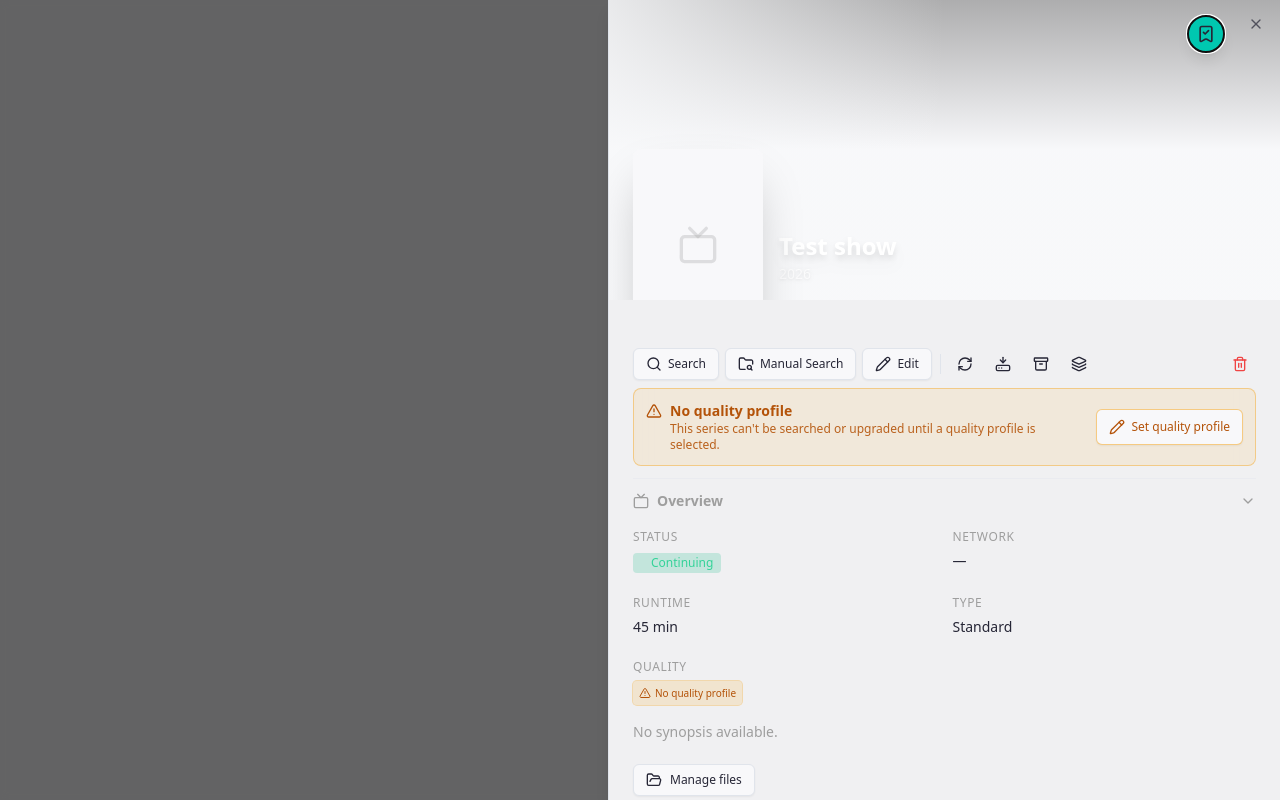
Test: Media file manager detail entry points › opens whole-series inventory without a season filter
The width and height of the screenshot is (1280, 800).
Click the button "Manage files" at (694, 780), box [633, 764, 755, 796]
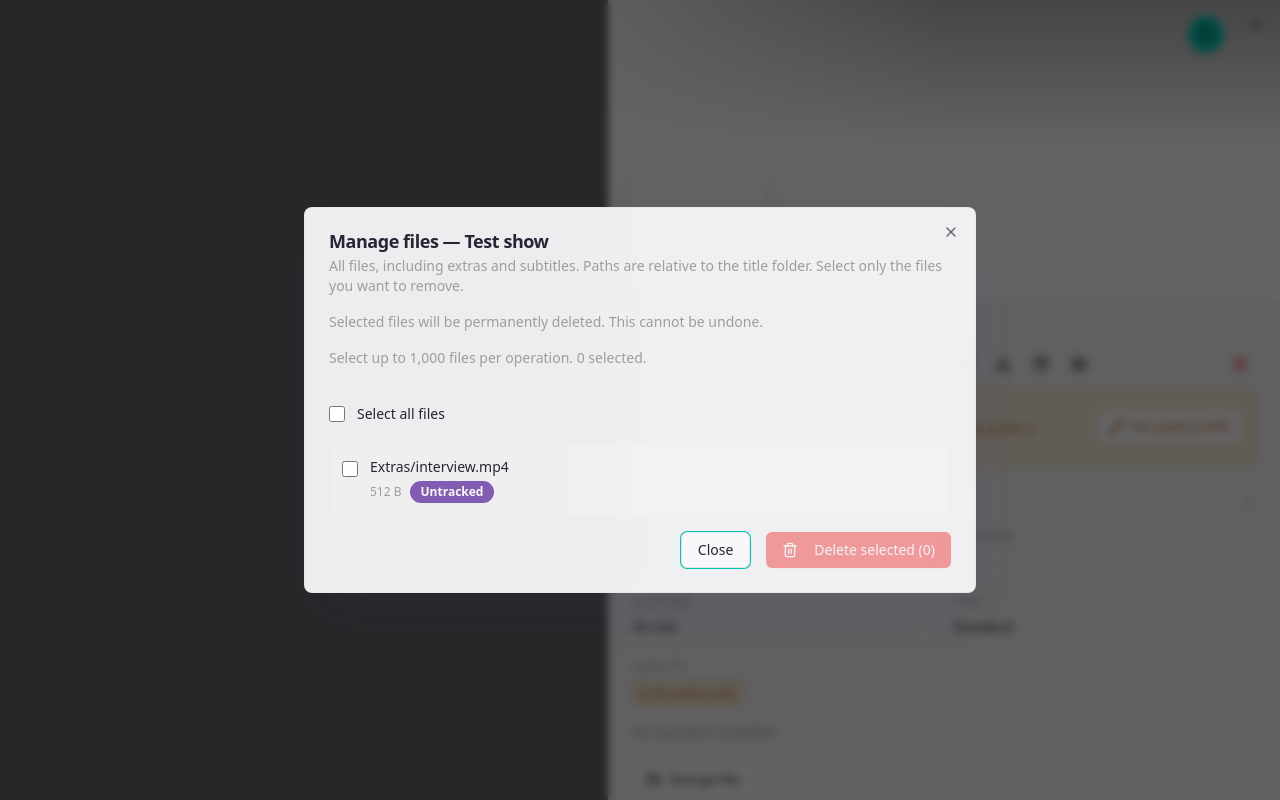
Now the text "Extras/interview.mp4" is shown, box [370, 457, 509, 477]
